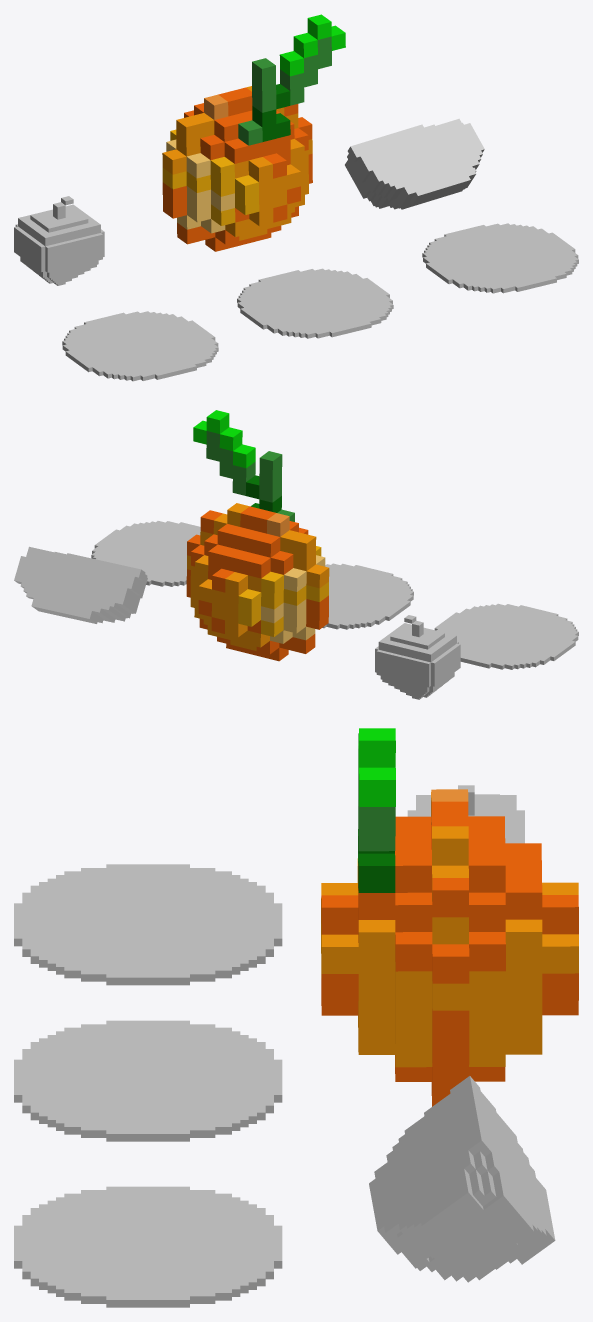
File: fruits.fbx
The picture shows the model from 3 angles, top to bottom: view 1: azimuth 30°, elevation 25°; view 2: azimuth 150°, elevation 25°; view 3: azimuth 270°, elevation 25°; orthographic projection. The views are drawn at different scales.
Parts seen in each view (by area): view 1: orange_full, green lemon, grapefruit, orange, yellow lemon, strawberry; view 2: orange_full, green lemon, grapefruit, strawberry, yellow lemon, orange; view 3: orange_full, yellow lemon, grapefruit, orange, green lemon, strawberry.
Part boxes in pixels (left/top/right/bottom): orange_full: left=162, top=14, right=345, bottom=251; green lemon: left=345, top=118, right=484, bottom=209; grapefruit: left=62, top=311, right=218, bottom=381; orange: left=237, top=268, right=393, bottom=338; yellow lemon: left=422, top=223, right=578, bottom=293; strawberry: left=14, top=196, right=104, bottom=285; orange_full: left=186, top=410, right=329, bottom=661; green lemon: left=14, top=546, right=147, bottom=623; grapefruit: left=434, top=603, right=578, bottom=669; strawberry: left=375, top=615, right=460, bottom=699; yellow lemon: left=91, top=521, right=200, bottom=586; orange: left=322, top=563, right=413, bottom=629; orange_full: left=321, top=728, right=578, bottom=1106; yellow lemon: left=14, top=1186, right=282, bottom=1307; grapefruit: left=14, top=864, right=282, bottom=985; orange: left=14, top=1020, right=282, bottom=1141; green lemon: left=369, top=1076, right=555, bottom=1282; strawberry: left=407, top=785, right=524, bottom=843.
Size of the model in its own units: 1230 by 540 by 674.
